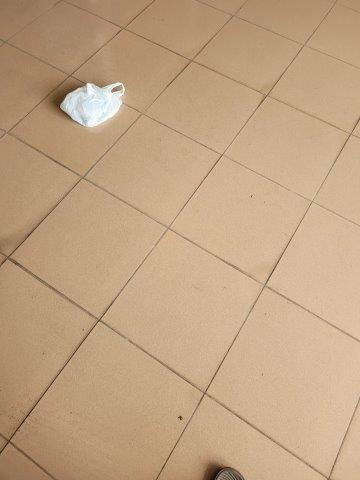plastik: (58, 83, 125, 127)
